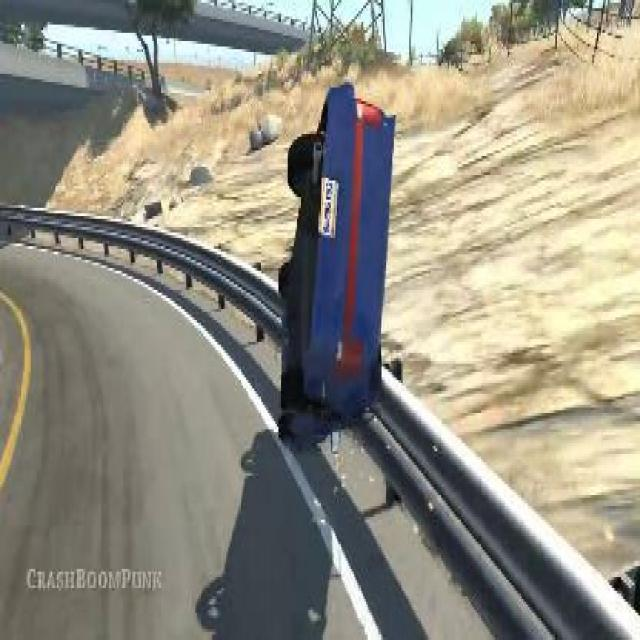accident: (269, 82, 394, 484)
